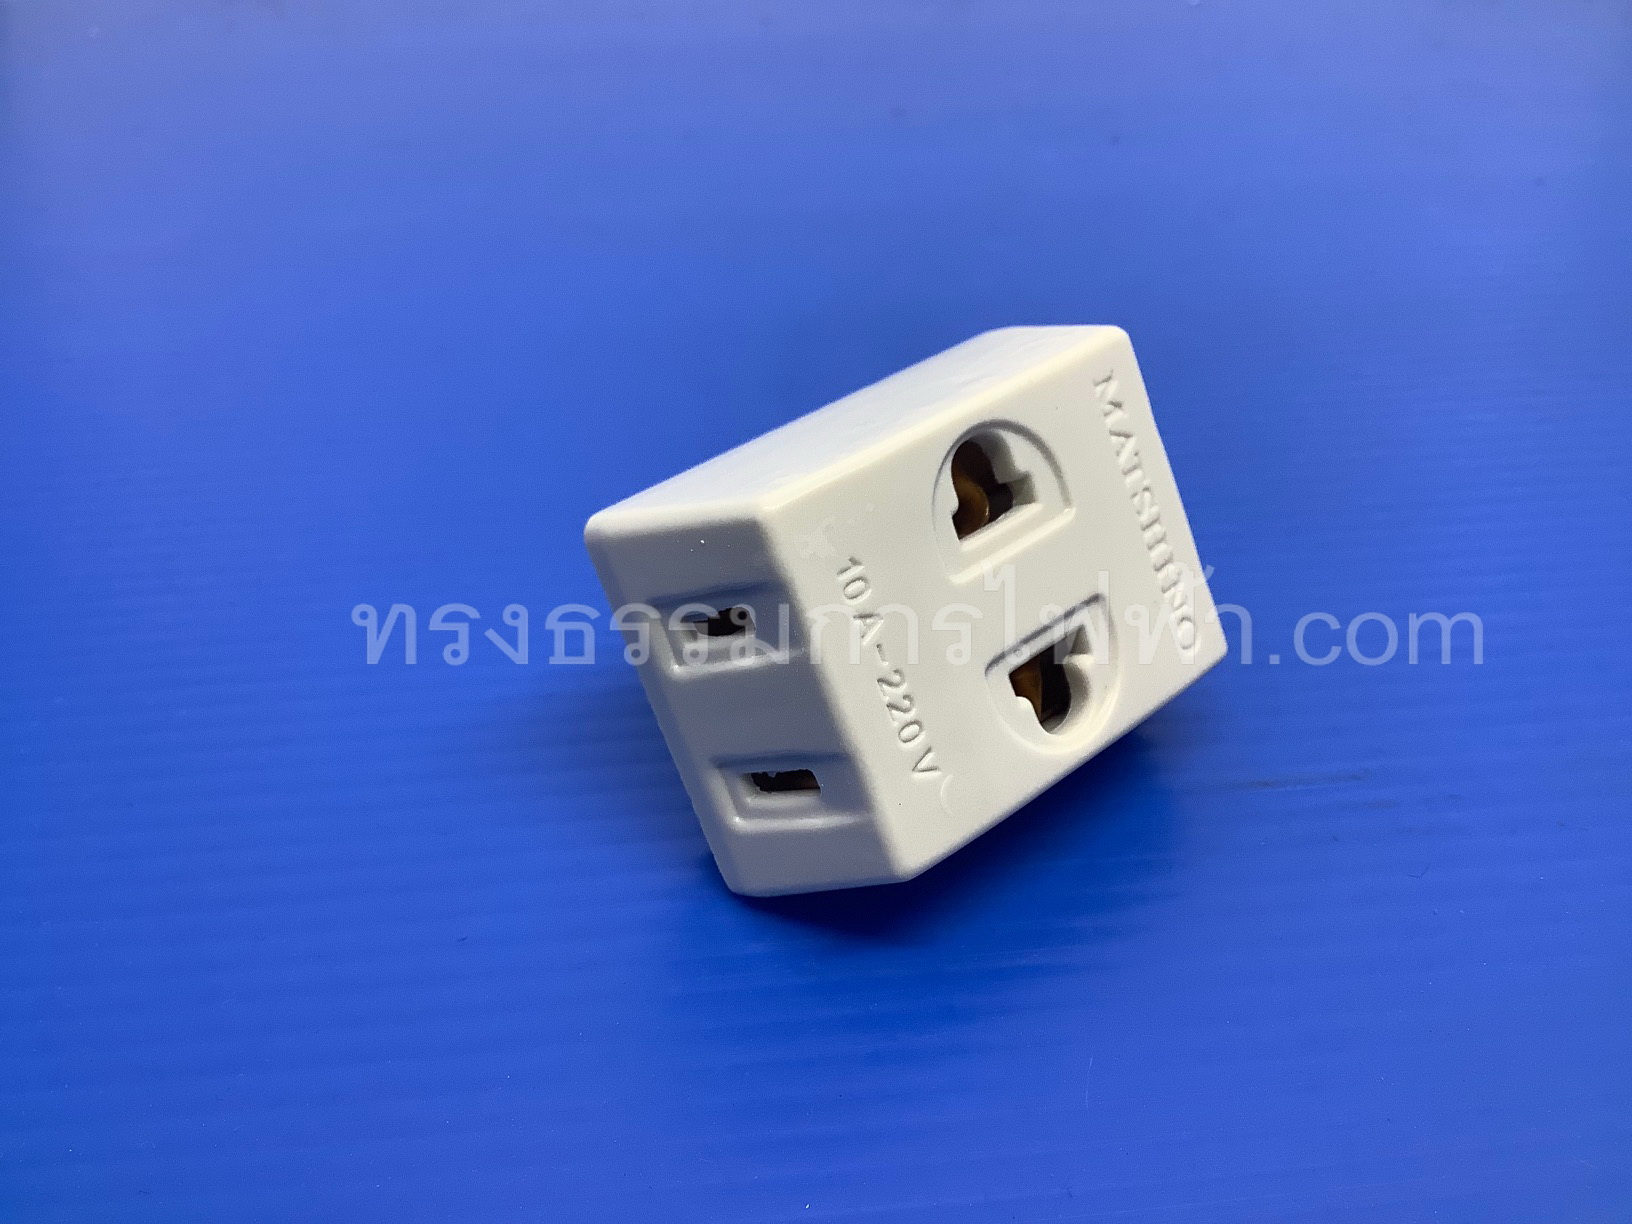Three_eye_plug: (571, 314, 1234, 913)
